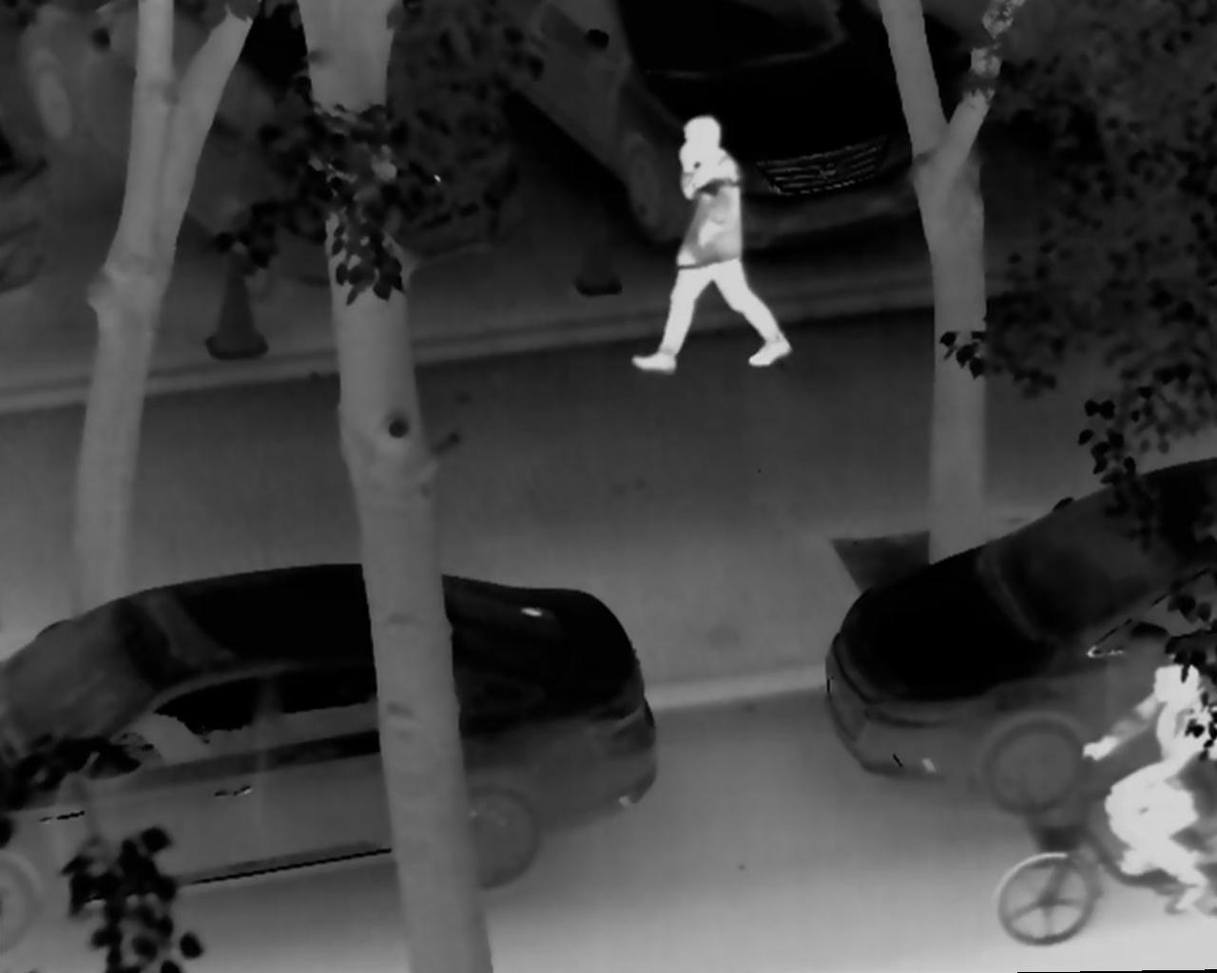person: (631, 115, 790, 379), (1076, 635, 1214, 918)
